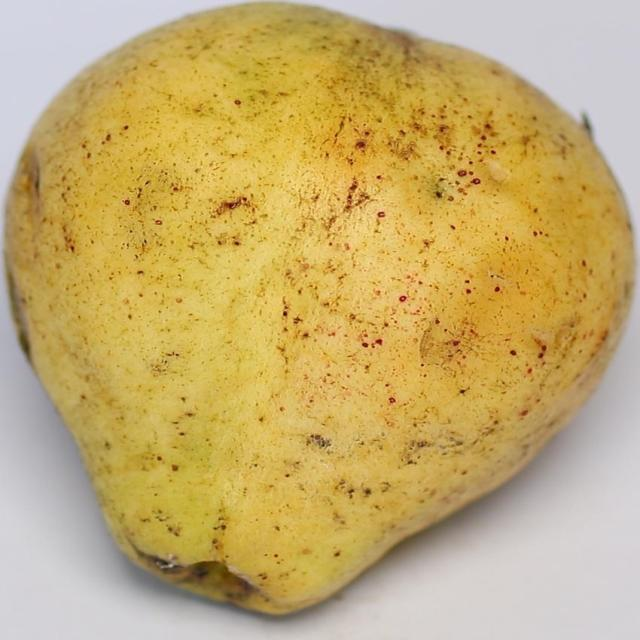Good_Guava: (0, 2, 635, 619)
